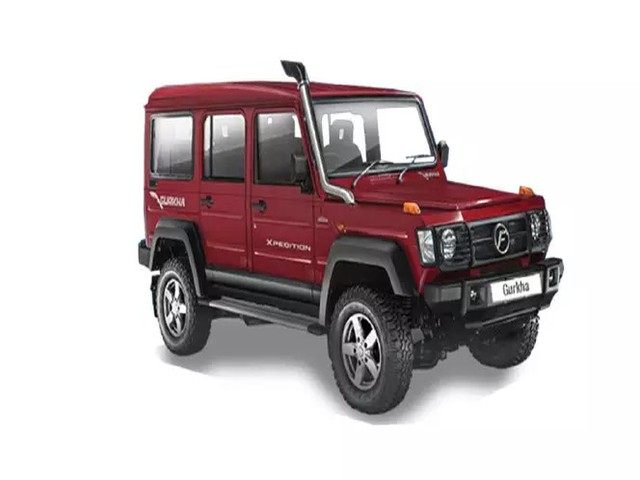Vehicle: (139, 64, 564, 414)
